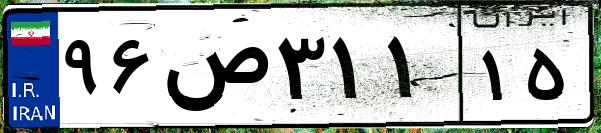1: (385, 28, 445, 110), (330, 28, 385, 110), (475, 38, 525, 113)
3: (270, 28, 330, 110)
5: (525, 38, 570, 115)
6: (110, 28, 158, 98)
9: (57, 26, 110, 100)
ص: (158, 20, 270, 120)
